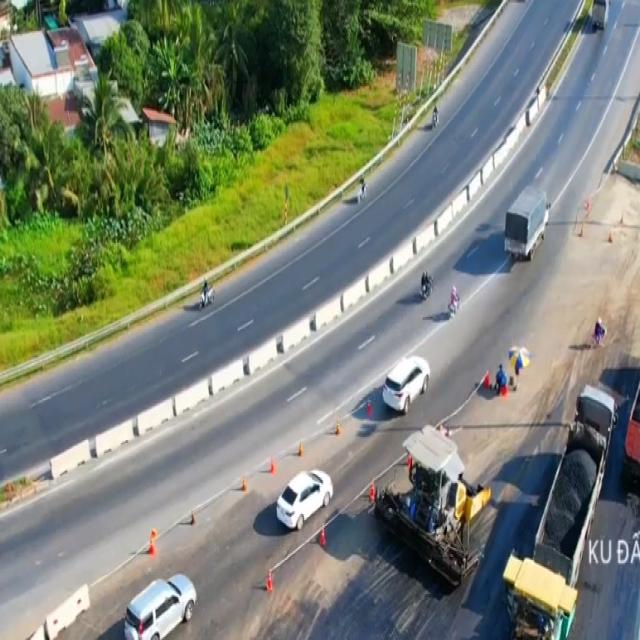car: (126, 572, 197, 640), (276, 468, 336, 530), (381, 356, 430, 414)
motorbike: (199, 278, 216, 312), (417, 268, 434, 300), (447, 287, 461, 321)
truck: (506, 183, 550, 264), (590, 0, 608, 29)
